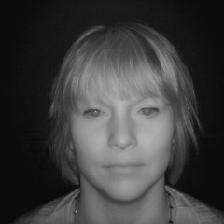normal: (57, 18, 198, 206)
